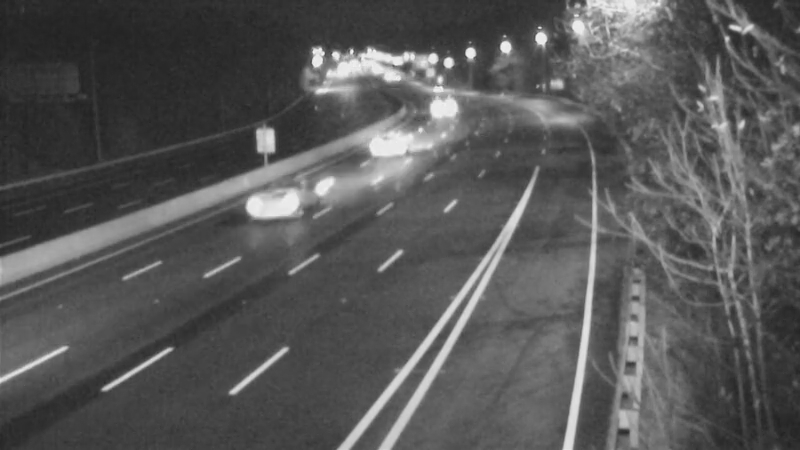vehicle: (244, 157, 324, 237), (411, 61, 461, 111), (415, 78, 465, 128), (367, 121, 417, 171)
